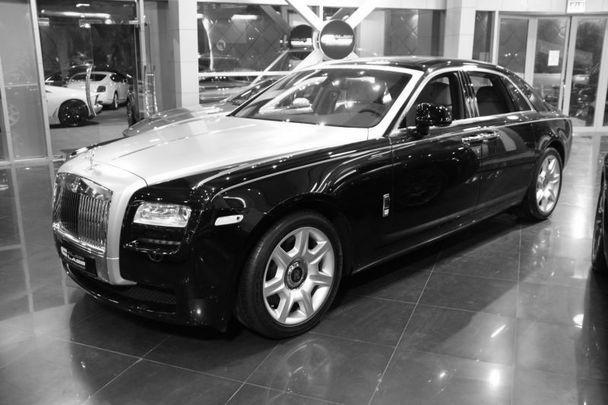car: (51, 57, 573, 337)
